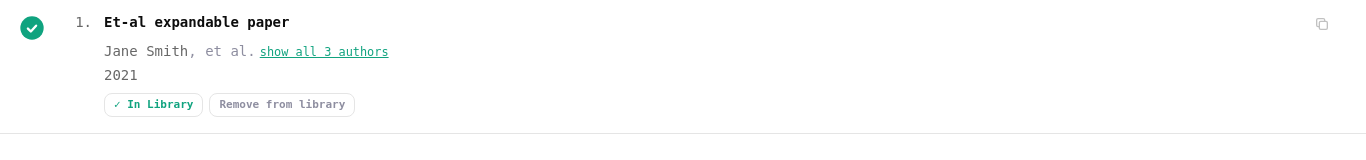
Test: ReferenceCard — author UI cluster (D1) › R09: an "et al." cited list still shows what was CITED, with an opt-in toggle to the resolved list
Check: the text "Alice Wong" is not shown
Check: the text "John Doe" is not shown
Note: The fuller resolved list is offered explicitly instead.
Click the button "show all 3 authors" at x=324, y=52, box [260,44,389,61]
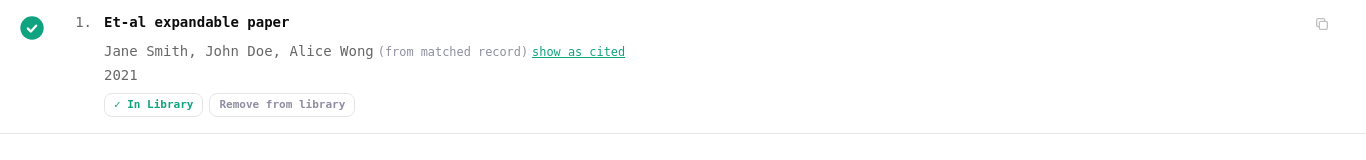
Check: the text "Alice Wong" is shown, box [290,43,374,59]
Check: the text "John Doe" is shown, box [205,43,273,59]
Check: the text "(from matched record)" is shown, box [378,45,528,59]
Note: The user can always get back to the cited text.
Click the button "show as cited" at x=579, y=52, box [532,44,625,61]
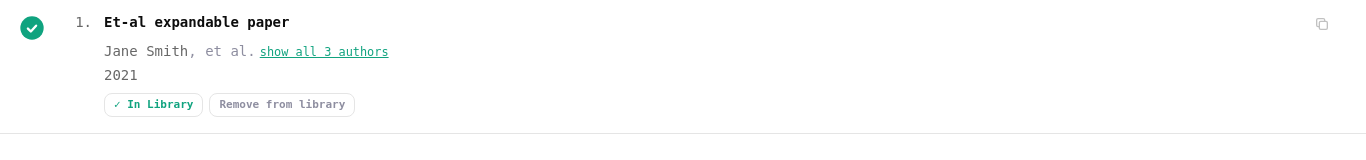
Check: the text "Alice Wong" is gone
